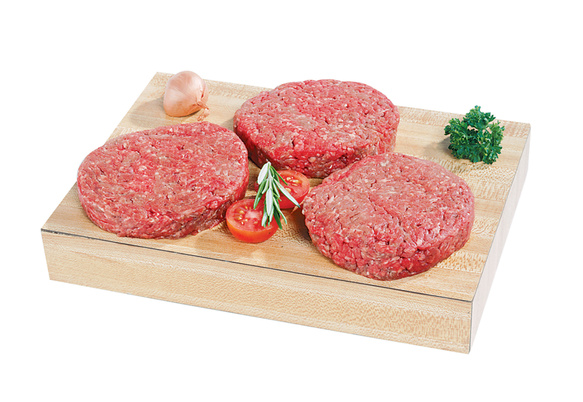ground_beef: (279, 162, 495, 280), (68, 122, 252, 239), (232, 85, 393, 182)
